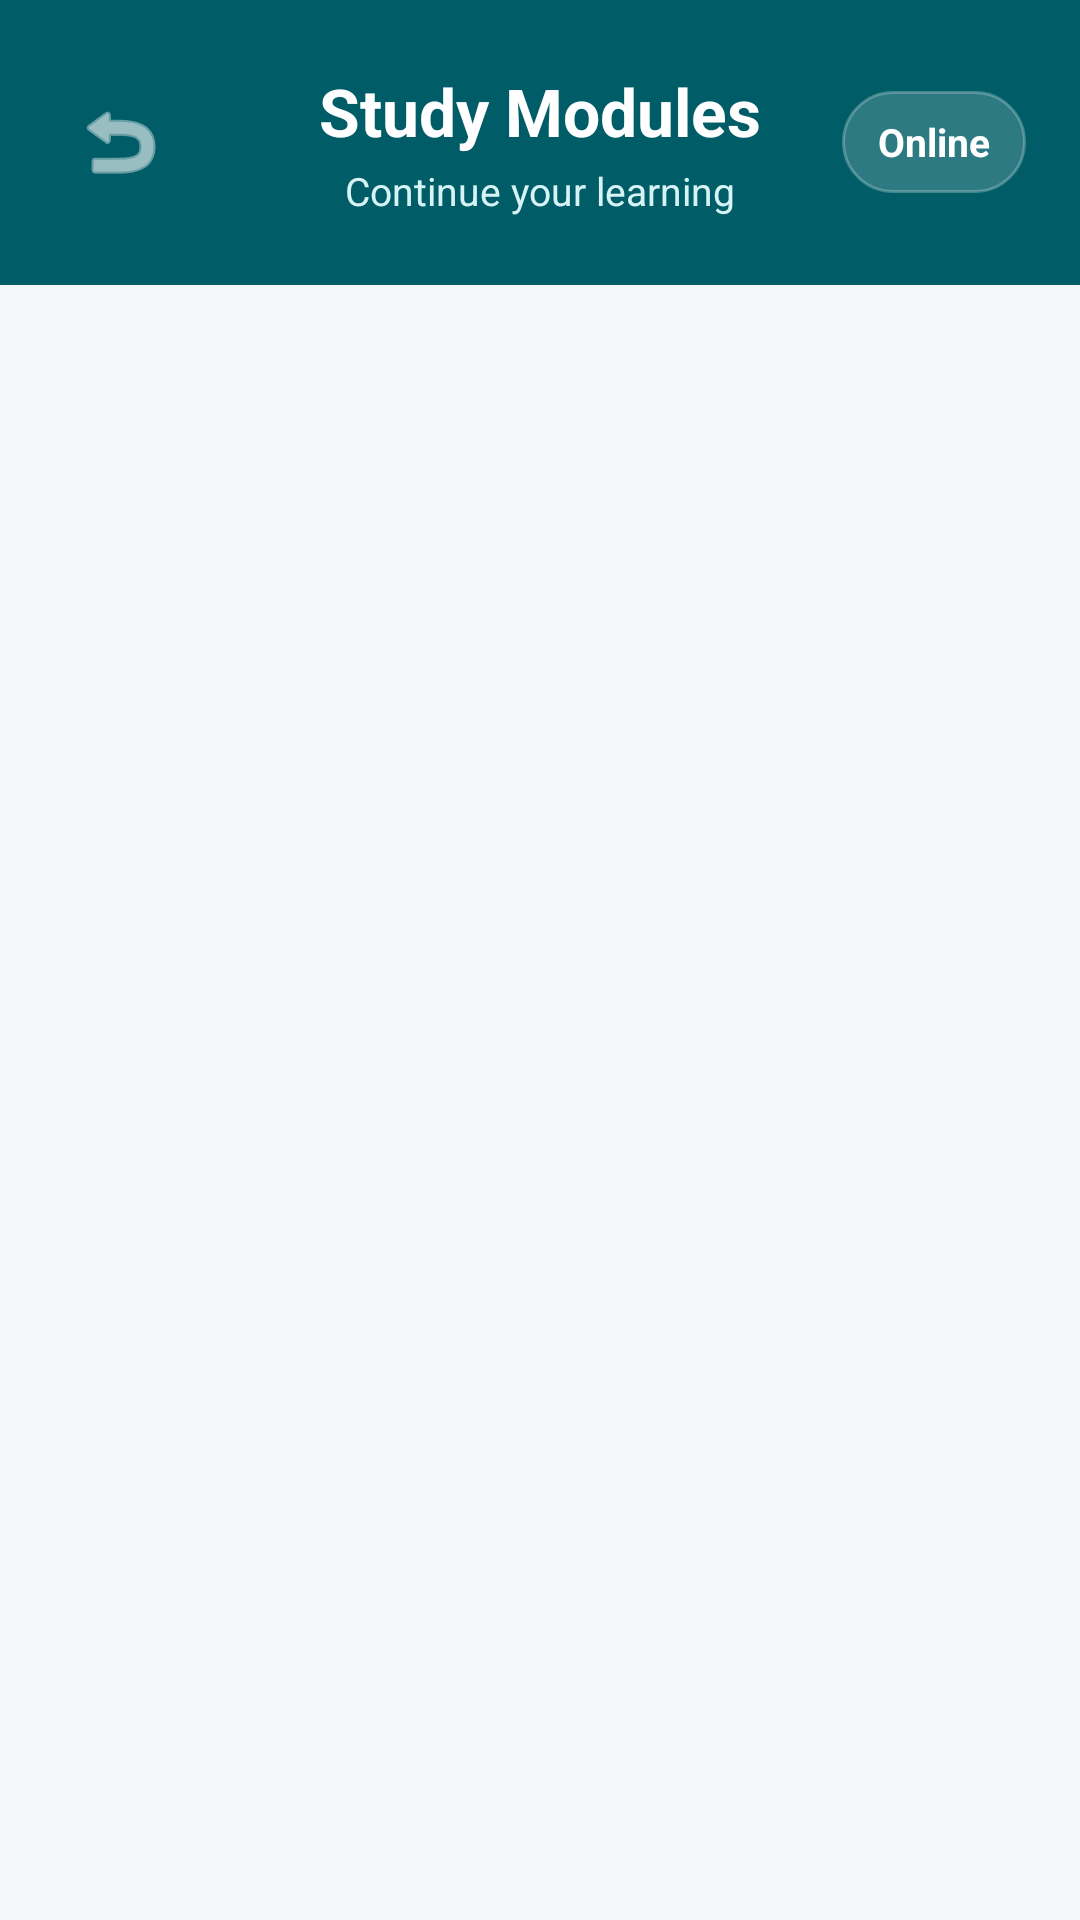

Icon bounding boxes for this 1080 x 1920 phone screenshot, format (x1, y1, x2, y2):
Back: (87, 111, 156, 174)
